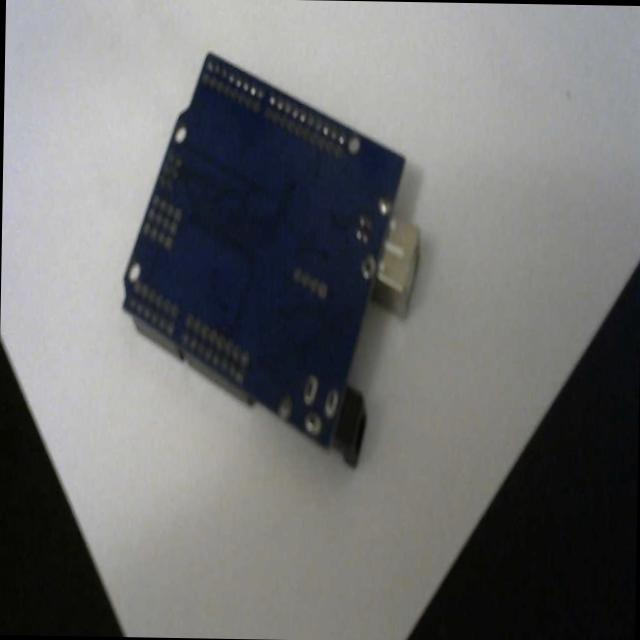arduino: (114, 44, 432, 476)
